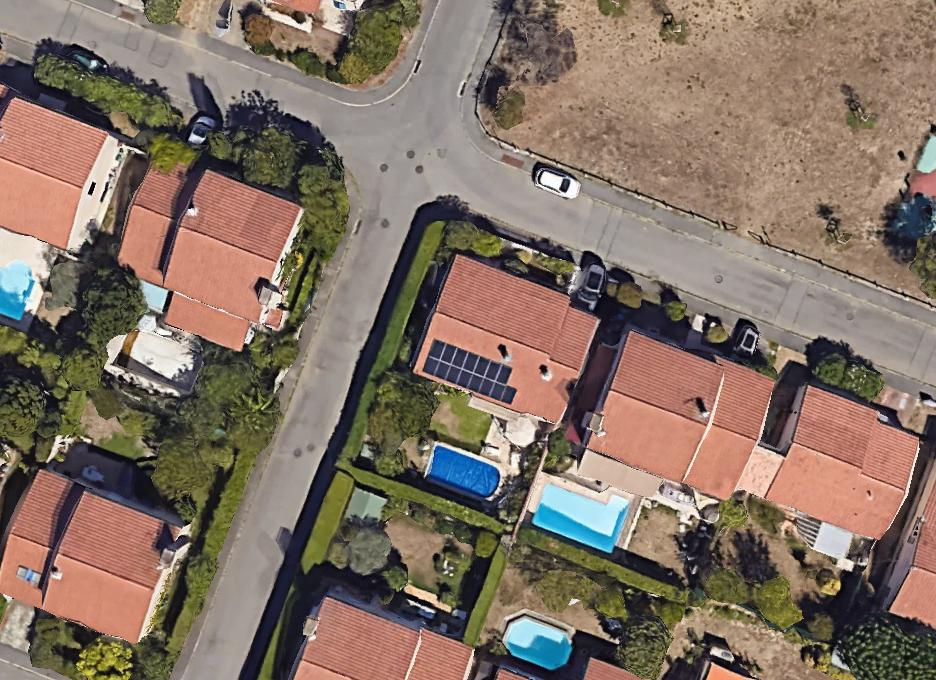maison: (99, 150, 310, 357), (409, 252, 603, 428), (584, 328, 778, 504), (0, 465, 186, 647), (758, 380, 931, 545), (0, 92, 132, 260), (293, 595, 477, 680), (881, 468, 935, 629)
